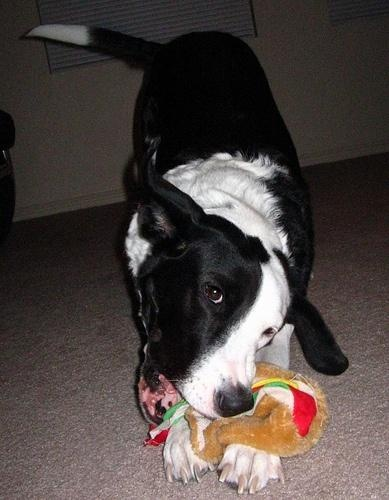dog: (22, 22, 349, 492)
